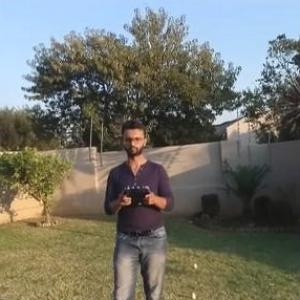follow: (94, 108, 176, 299)
